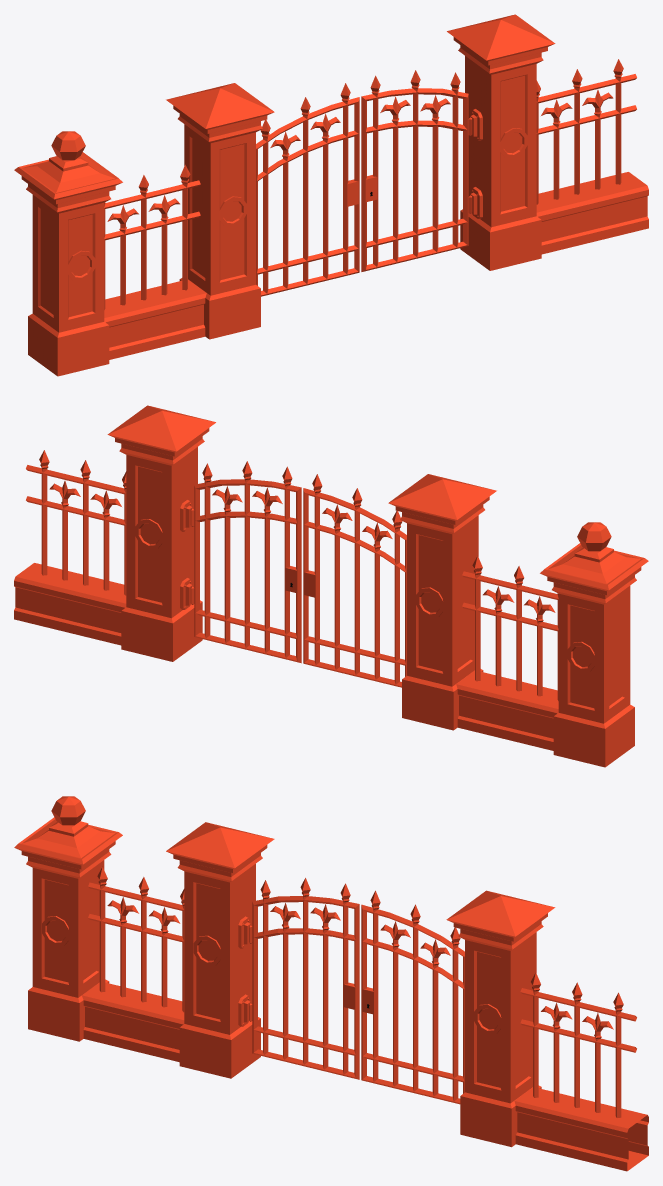
File: SM_Fence_Ornamental_Gate_City.fbx
3 views of the same model, one above another, from view 1: azimuth 30°, elevation 25°; view 2: azimuth 150°, elevation 25°; view 3: azimuth 330°, elevation 25° (orthographic).
Parts seen in each view (by area): view 1: SM_Fence_Ornamental_Gate_City_Base, SM_Fence_Ornamental_Gate_City_Door_L, SM_Fence_Ornamental_Gate_City_Door_R; view 2: SM_Fence_Ornamental_Gate_City_Base, SM_Fence_Ornamental_Gate_City_Door_L, SM_Fence_Ornamental_Gate_City_Door_R; view 3: SM_Fence_Ornamental_Gate_City_Base, SM_Fence_Ornamental_Gate_City_Door_R, SM_Fence_Ornamental_Gate_City_Door_L.
Boxes of the visible parts, bbox=[...] form: SM_Fence_Ornamental_Gate_City_Base: bbox=[14, 14, 648, 376]; SM_Fence_Ornamental_Gate_City_Door_L: bbox=[361, 70, 472, 271]; SM_Fence_Ornamental_Gate_City_Door_R: bbox=[256, 83, 359, 296]; SM_Fence_Ornamental_Gate_City_Base: bbox=[14, 405, 648, 767]; SM_Fence_Ornamental_Gate_City_Door_L: bbox=[190, 461, 301, 663]; SM_Fence_Ornamental_Gate_City_Door_R: bbox=[303, 474, 406, 687]; SM_Fence_Ornamental_Gate_City_Base: bbox=[14, 796, 648, 1171]; SM_Fence_Ornamental_Gate_City_Door_R: bbox=[249, 878, 359, 1079]; SM_Fence_Ornamental_Gate_City_Door_L: bbox=[361, 890, 464, 1104].
Bounding box in the file's own units: 5.17 × 1.92 × 0.5931.
